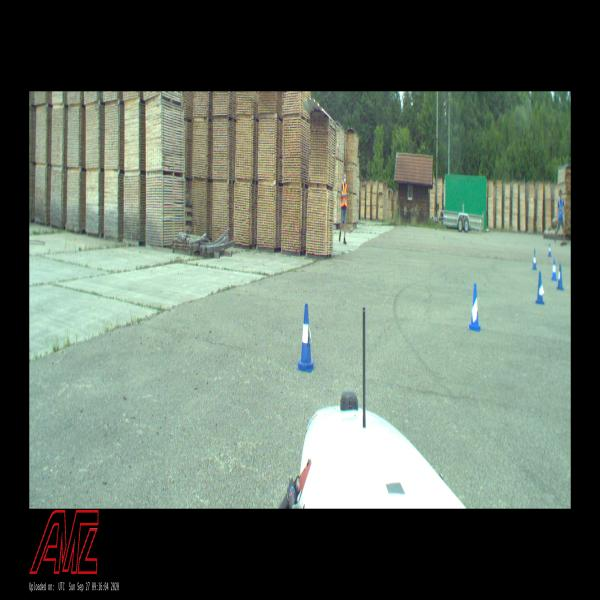blue_cone: (296, 304, 315, 372), (469, 284, 481, 331), (536, 271, 544, 304), (556, 264, 564, 290), (551, 259, 557, 280), (532, 249, 537, 269), (548, 244, 551, 256)
